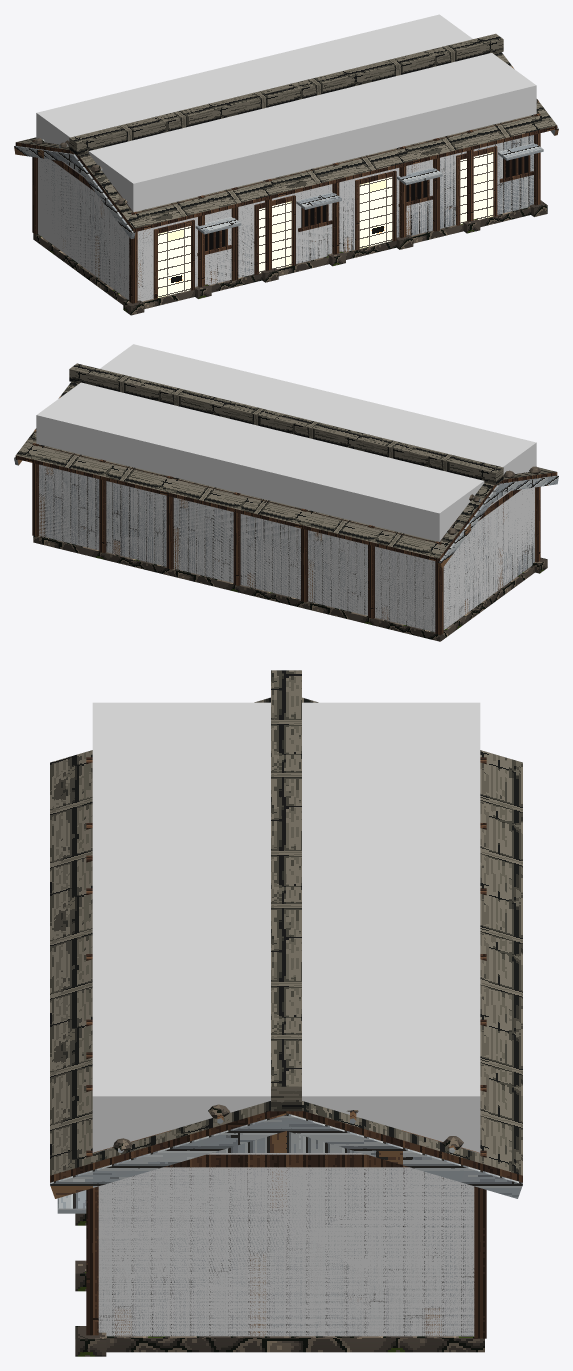
Rendered from JP_Poor_RowHouse_A.glb.
3 renders of one model, top to bottom at view 1: azimuth 30°, elevation 25°; view 2: azimuth 150°, elevation 25°; view 3: azimuth 270°, elevation 25°, orthographic. The views are drawn at different scales.
Parts seen in each view (by area): view 1: COL_JP_Poor_RowHouse_A, JP_Poor_RowHouse_A; view 2: COL_JP_Poor_RowHouse_A, JP_Poor_RowHouse_A; view 3: COL_JP_Poor_RowHouse_A, JP_Poor_RowHouse_A.
Part boxes in pixels (x1,y1,x2,y2): COL_JP_Poor_RowHouse_A: [36, 14, 536, 301]; JP_Poor_RowHouse_A: [14, 33, 558, 315]; COL_JP_Poor_RowHouse_A: [36, 344, 536, 631]; JP_Poor_RowHouse_A: [14, 363, 558, 641]; COL_JP_Poor_RowHouse_A: [92, 702, 480, 1336]; JP_Poor_RowHouse_A: [50, 670, 522, 1356].
Size of the model in its own units: 12.7 by 3.91 by 6.1.
Materials: 7 (7 with a texture image).
